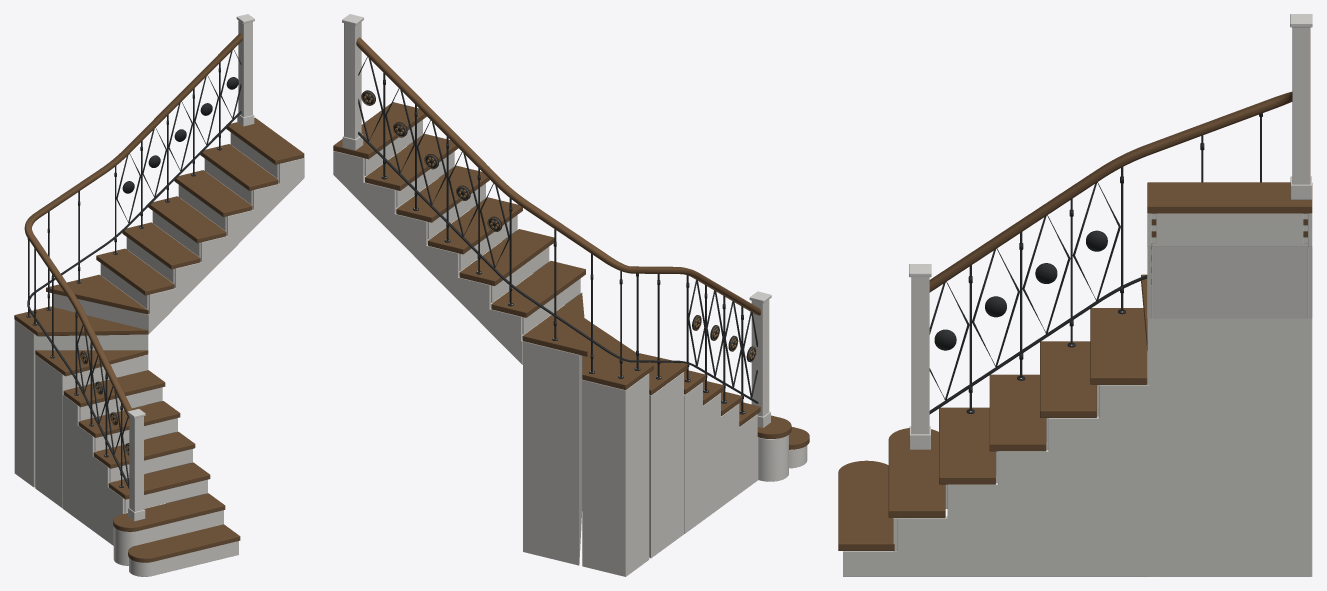
Rendered from classic-BGBNkBxh.glb.
3 views of the same model, side by side, from view 1: azimuth 30°, elevation 25°; view 2: azimuth 150°, elevation 25°; view 3: azimuth 270°, elevation 25° (orthographic). The views are drawn at different scales.
Visible parts, largest first — view 1: Frame closed stringer, Rail continuous lacquered handrail, Hardware mounting flange; view 2: Frame closed stringer, Rail continuous lacquered handrail, Hardware mounting flange, Rail medallion relief; view 3: Frame closed stringer, Rail continuous lacquered handrail, Hardware mounting flange.
Part boxes in pixels (x1,y1,x2,y2): Frame closed stringer: [14, 14, 304, 576]; Rail continuous lacquered handrail: [14, 33, 304, 562]; Hardware mounting flange: [26, 49, 241, 488]; Frame closed stringer: [333, 14, 807, 576]; Rail continuous lacquered handrail: [333, 37, 809, 449]; Hardware mounting flange: [358, 57, 758, 414]; Rail medallion relief: [361, 91, 756, 361]; Frame closed stringer: [843, 14, 1312, 576]; Rail continuous lacquered handrail: [838, 91, 1312, 550]; Hardware mounting flange: [929, 113, 1262, 414].
Bounding box in the file's own units: 2.73 × 4.07 × 2.59.
